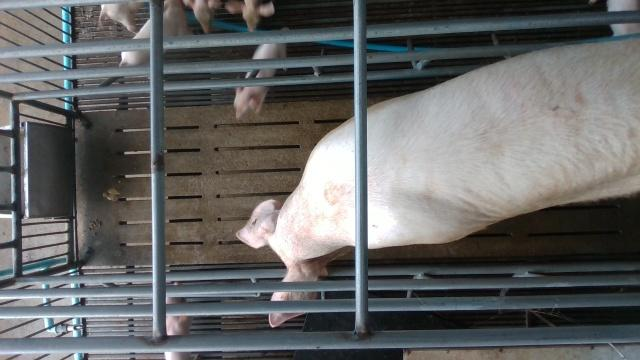piglet: (120, 0, 191, 67), (233, 44, 287, 119), (165, 281, 192, 360)
sow-stand: (235, 38, 640, 328)
